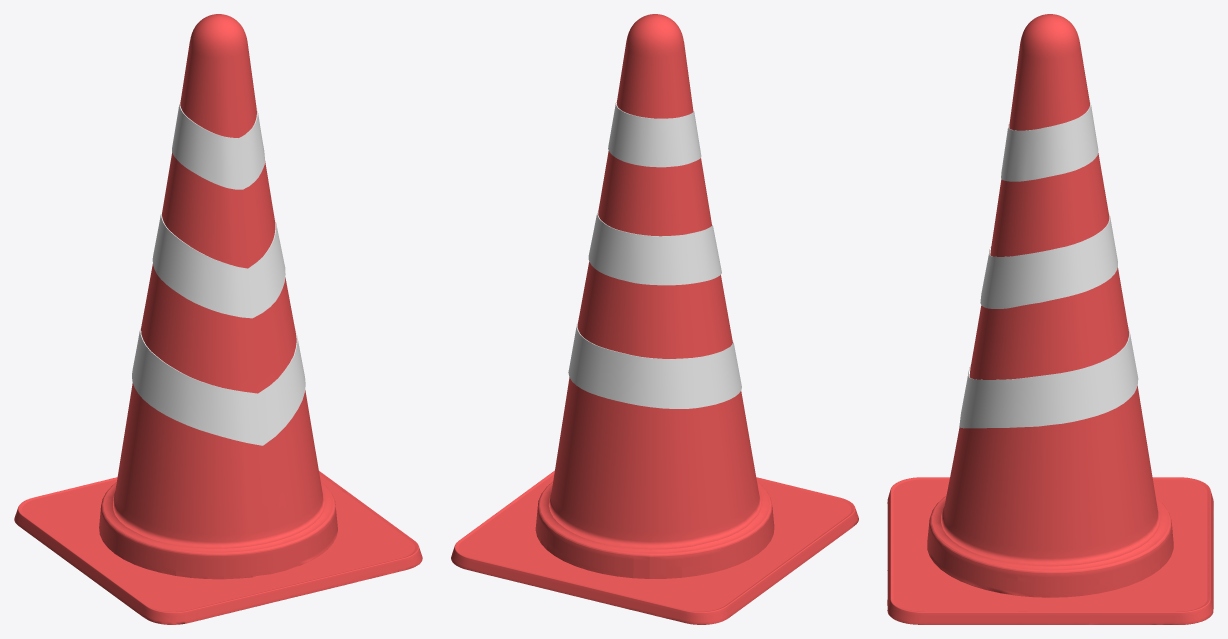
The model's file is Preset_ScotCone_RED.fbx.
3 views of the same model, side by side, from view 1: azimuth 30°, elevation 25°; view 2: azimuth 150°, elevation 25°; view 3: azimuth 270°, elevation 25° (orthographic). The views are drawn at different scales.
Visible parts, largest first — view 1: c_upper, c_bottom, bottom, c_middle, middle, c_bottom2, upper; view 2: c_upper, c_bottom, bottom, c_middle, c_bottom2, middle, upper; view 3: c_upper, c_bottom, bottom, c_middle, middle, c_bottom2, upper.
Boxes of the visible parts, x1,y1,x2,y2 form: c_upper: (113, 14, 324, 548); c_bottom: (22, 475, 414, 611); bottom: (132, 320, 305, 445); c_middle: (99, 482, 337, 579); middle: (152, 207, 285, 318); c_bottom2: (14, 471, 422, 624); upper: (172, 99, 264, 189); c_upper: (549, 14, 761, 549); c_bottom: (458, 474, 851, 611); bottom: (568, 322, 741, 408); c_middle: (535, 481, 774, 578); c_bottom2: (451, 470, 858, 624); middle: (588, 210, 721, 285); upper: (608, 101, 701, 167); c_upper: (941, 14, 1159, 566); c_bottom: (893, 479, 1207, 611); bottom: (959, 326, 1138, 428); c_middle: (927, 496, 1173, 597); middle: (980, 213, 1117, 308); c_bottom2: (887, 477, 1213, 624); upper: (1001, 101, 1098, 181).
Size of the model in its own units: 38.28 by 38.28 by 69.87.
